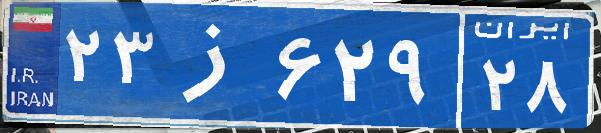2: (330, 28, 385, 110), (57, 26, 110, 107), (475, 38, 525, 113)
3: (110, 28, 158, 105)
6: (273, 28, 330, 110)
8: (525, 38, 570, 115)
9: (385, 28, 445, 110)
ز: (158, 15, 273, 115)
